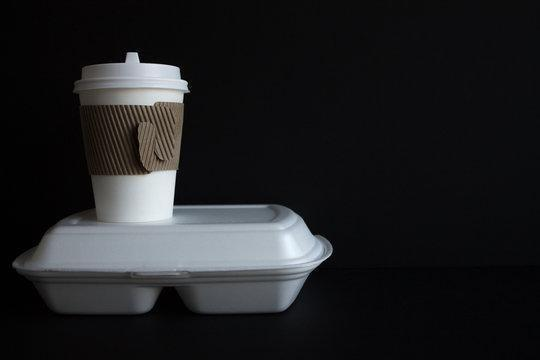cup-disposable: (72, 55, 190, 226)
